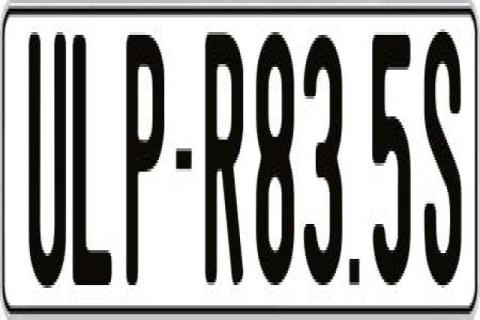0: (304, 35, 348, 297), (255, 32, 300, 288), (369, 35, 409, 291)
L: (71, 29, 114, 279)
P: (126, 26, 167, 291)
R: (204, 23, 243, 285)
S: (424, 26, 462, 294)
U: (26, 27, 66, 297)
